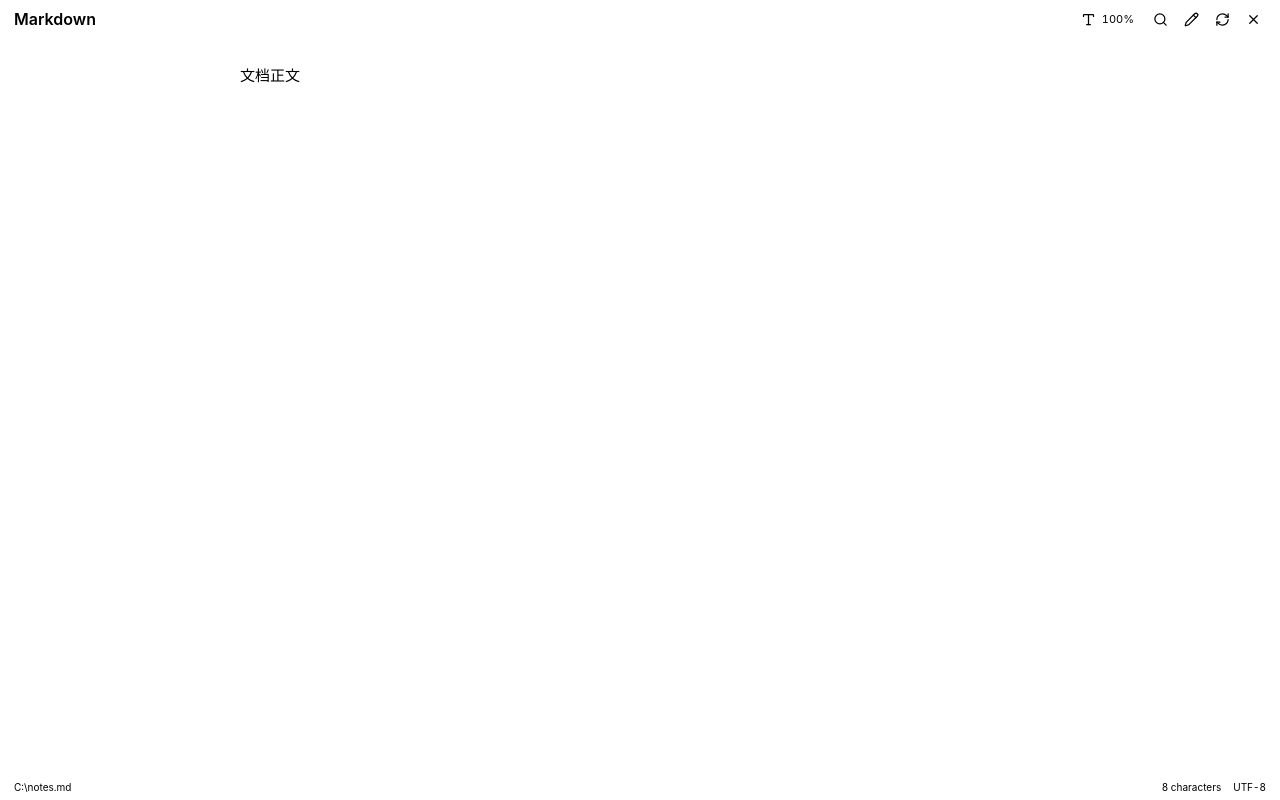
Scenario: MarkdownViewer deferred rendering › updates active search results when a diagram finishes rendering
Check: the text "文档正文" is shown, box 240,66 -> 300,85
Click the button named "Find". click: click(1160, 19)
box: 1147,6 -> 1173,32
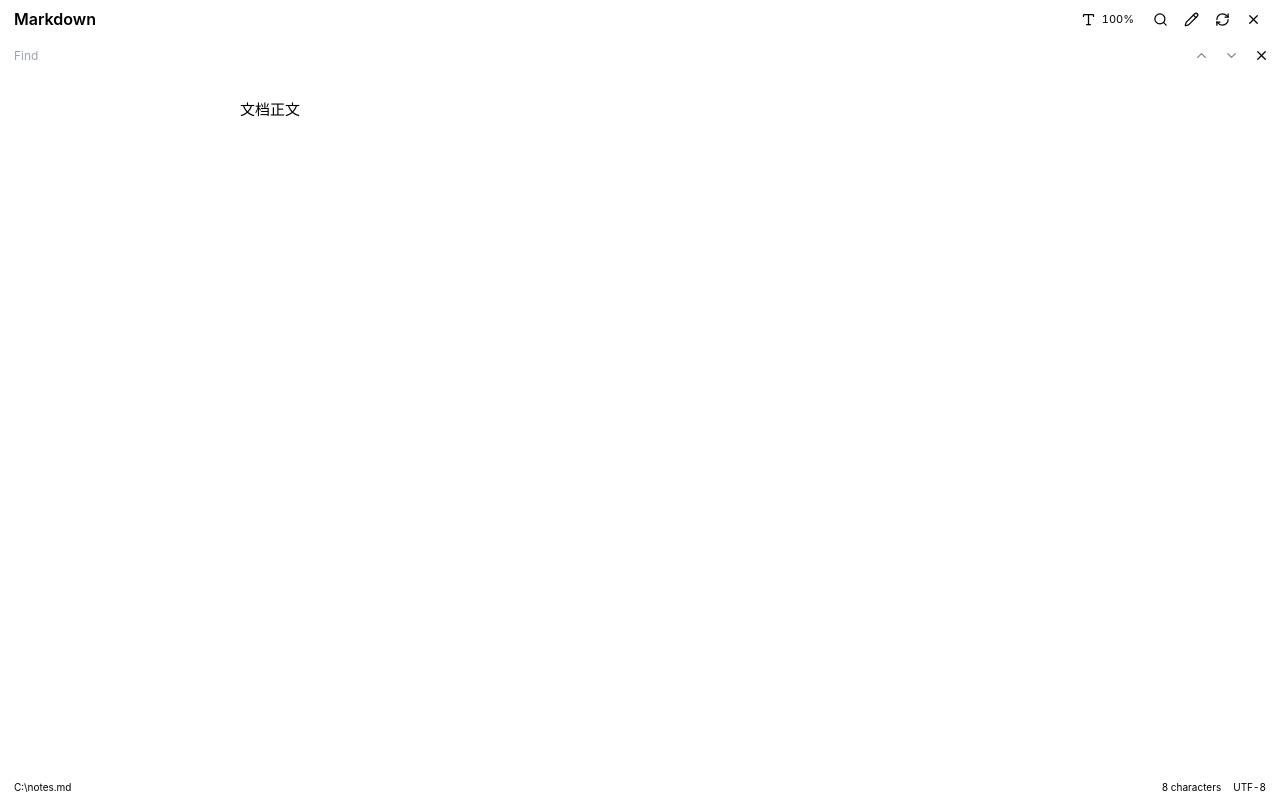
Type "证据" into the field with placeholder "Find". click: (574, 55)
box: 6,42 -> 1142,68
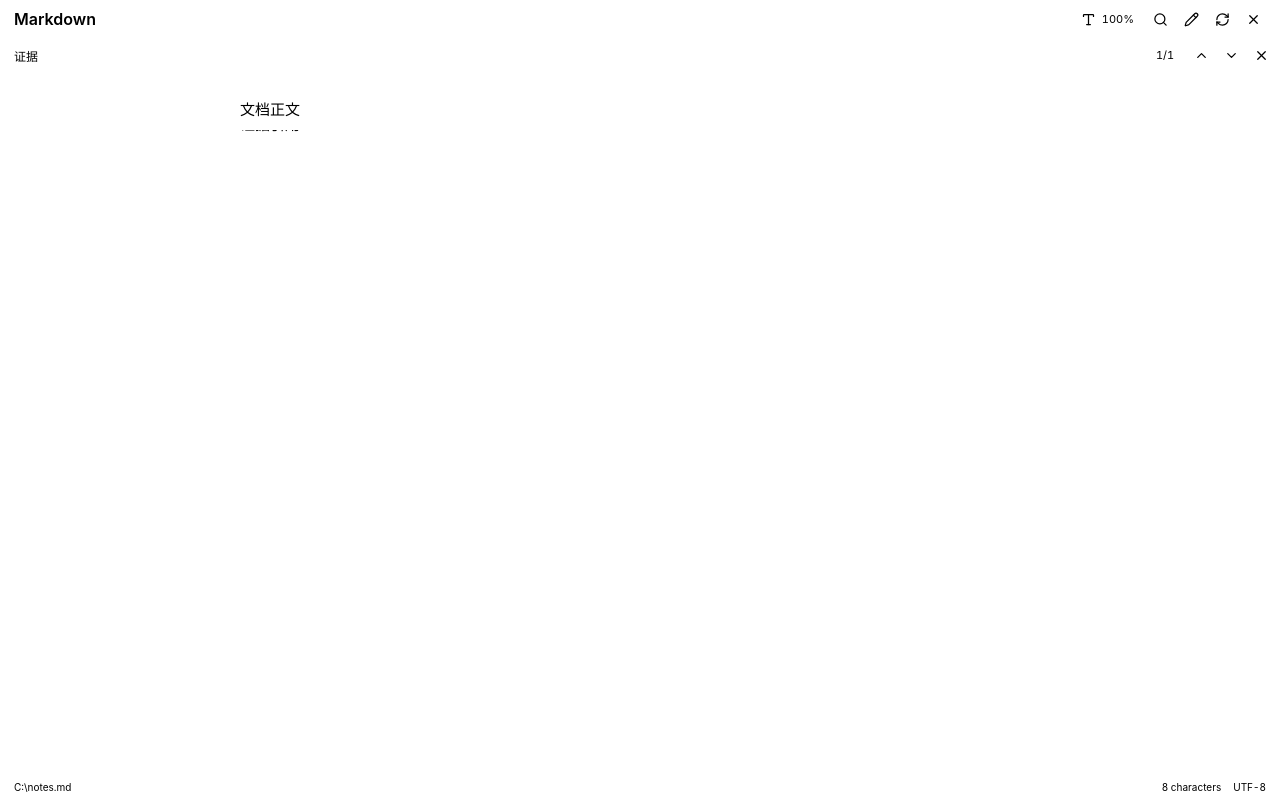
Check: the text "1/1" is shown, box 1156,48 -> 1174,62
